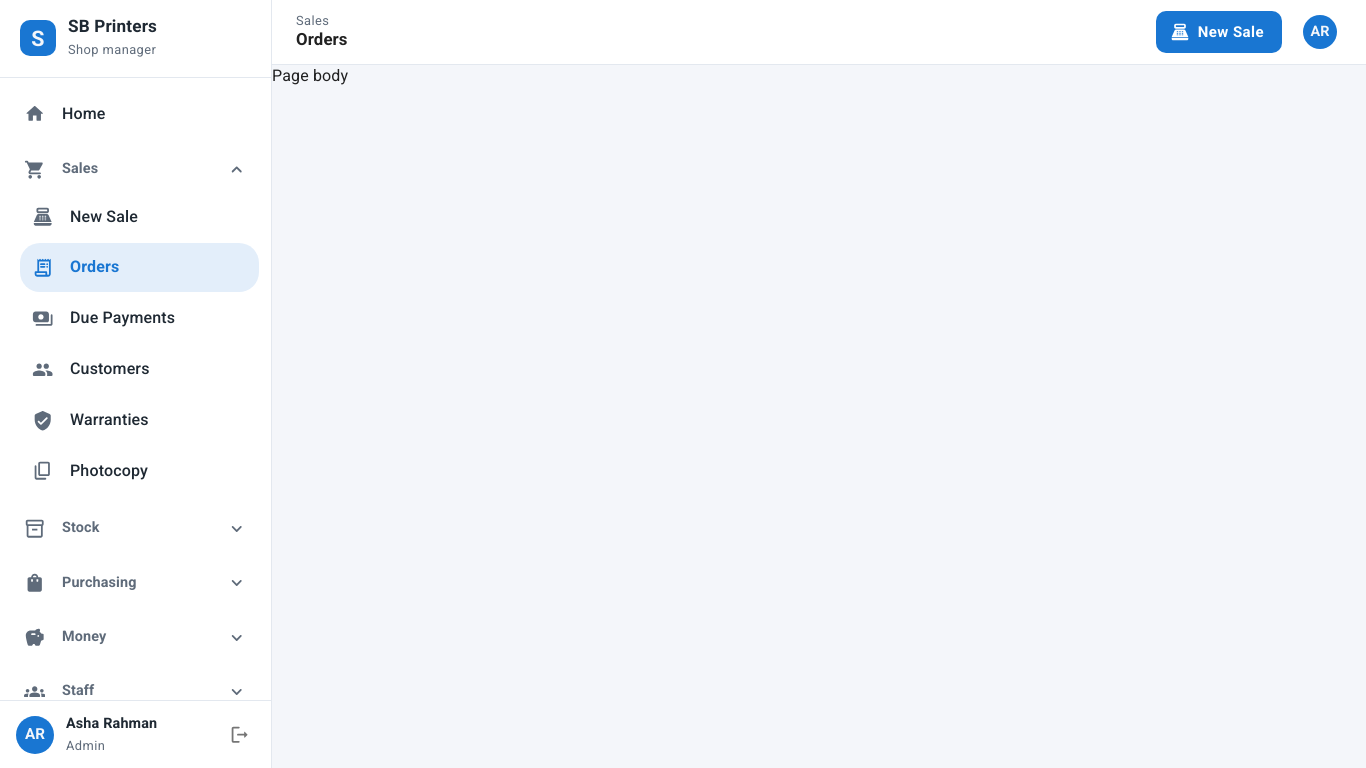
it: Layout › opens the current page group and lets the user toggle others
Click the button "Stock": (81, 528) [24,518,247,539]
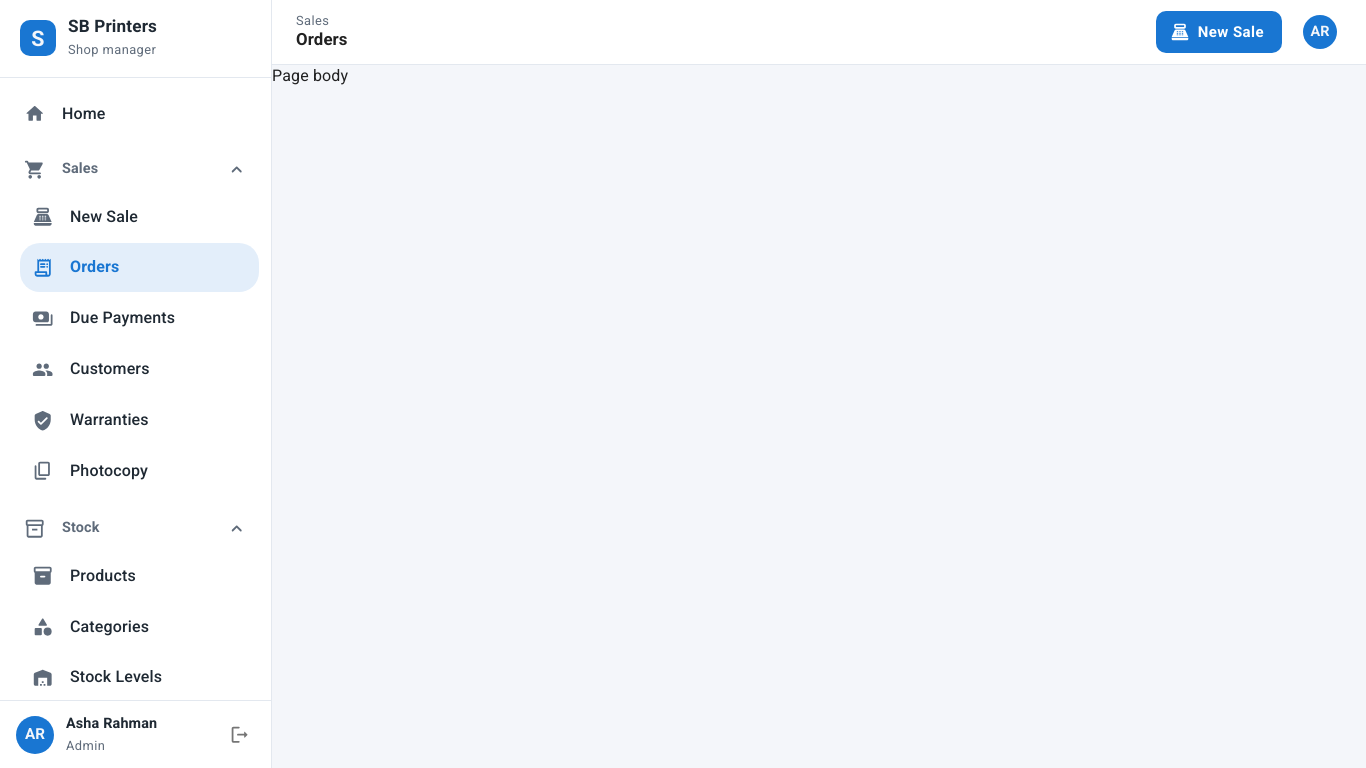
Result: the button "Stock" is expanded
Click the button "Stock": (81, 528) [24,518,247,539]
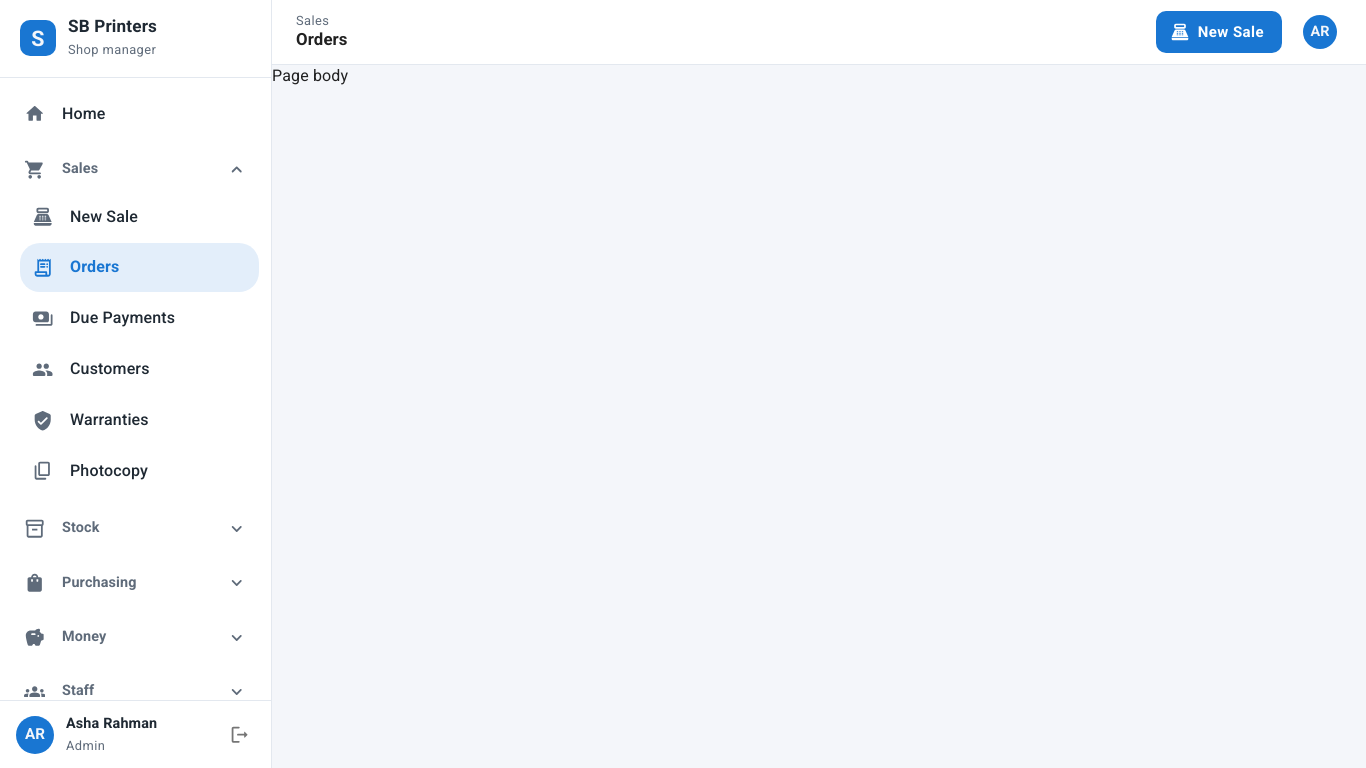
Result: the button "Stock" is collapsed at [24,518,247,539]
